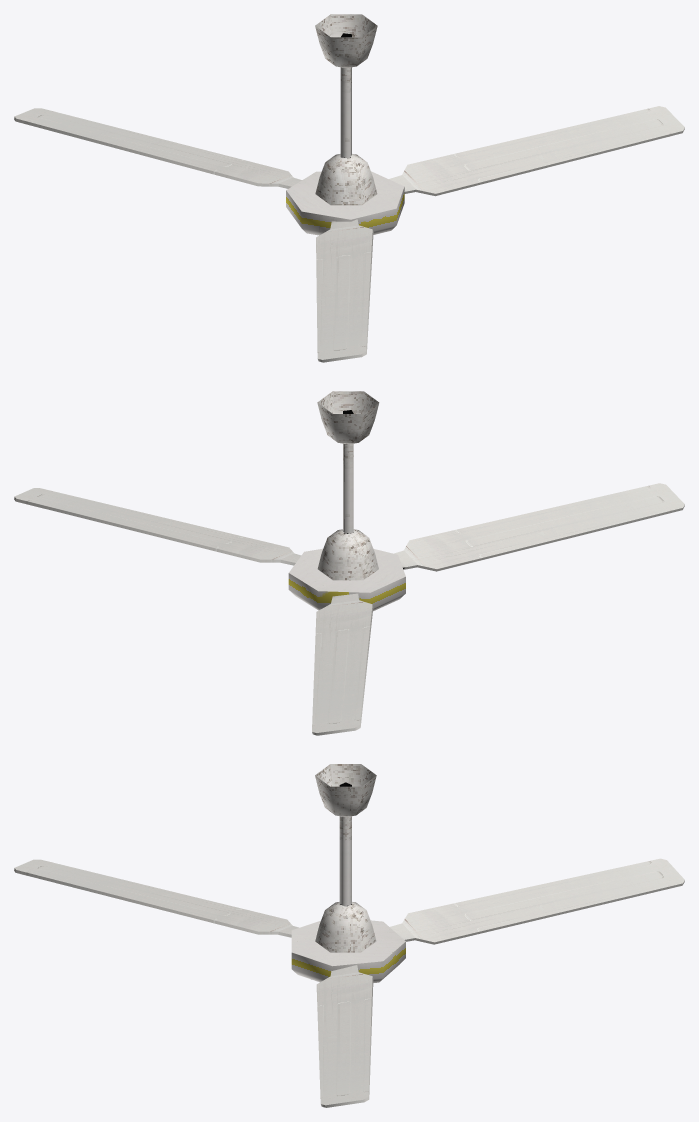
File: ceiling_fan.gltf
The picture shows the model from 3 angles, top to bottom: view 1: azimuth 30°, elevation 25°; view 2: azimuth 150°, elevation 25°; view 3: azimuth 270°, elevation 25°; orthographic projection.
Parts seen in each view (by area): view 1: Ceiling_Fan_Blades_01, Ceiling_Fan_01; view 2: Ceiling_Fan_Blades_01, Ceiling_Fan_01; view 3: Ceiling_Fan_Blades_01, Ceiling_Fan_01.
Boxes of the visible parts, x1,y1,x2,y2 form: Ceiling_Fan_Blades_01: [14, 106, 684, 362]; Ceiling_Fan_01: [315, 14, 377, 205]; Ceiling_Fan_Blades_01: [14, 483, 684, 735]; Ceiling_Fan_01: [317, 391, 379, 580]; Ceiling_Fan_Blades_01: [14, 858, 684, 1107]; Ceiling_Fan_01: [315, 764, 376, 952].
Bounding box in the file's own units: 1.76 × 0.6327 × 2.03.
Materials: 1 (1 with a texture image).
